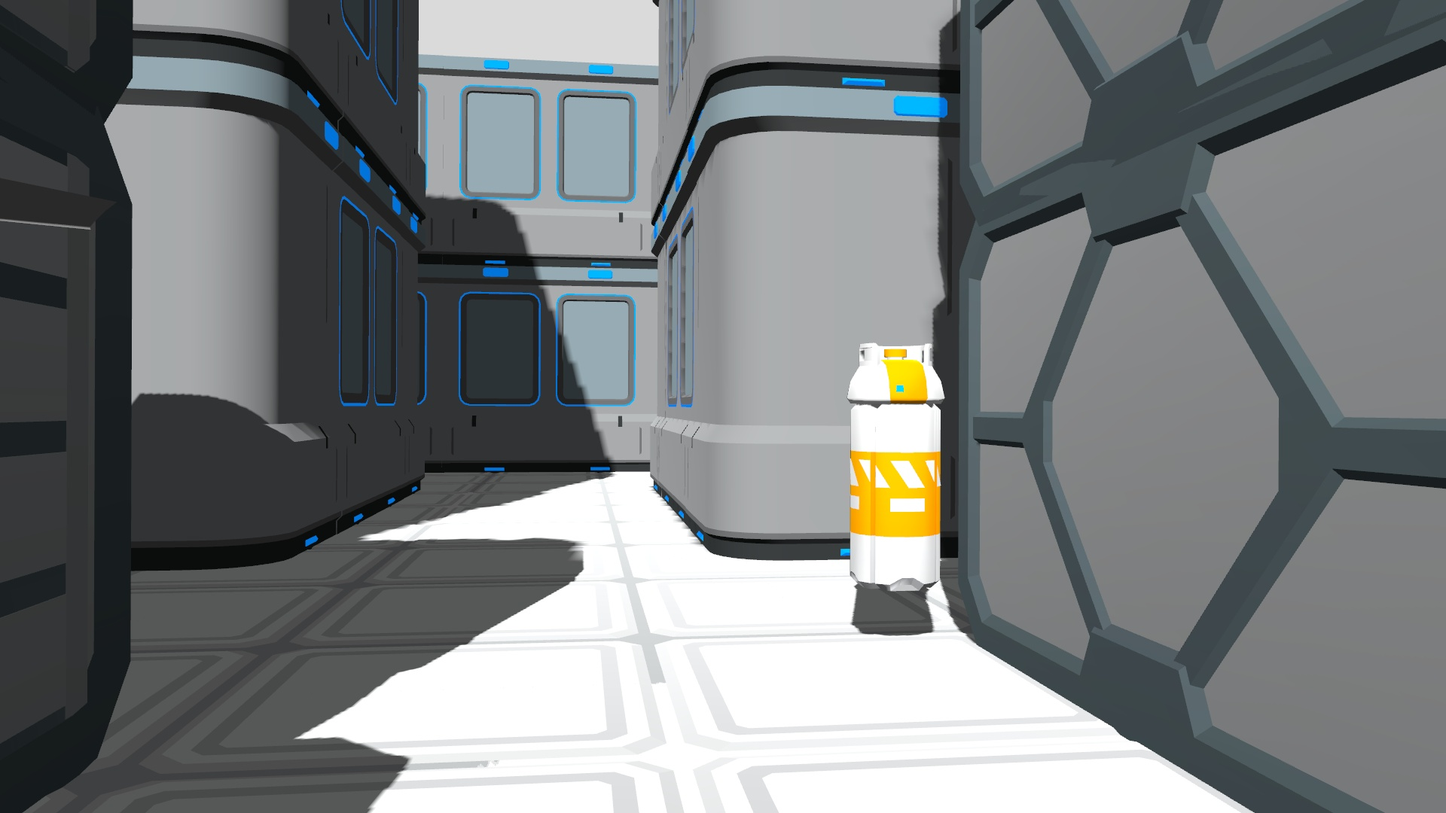yellow_barrel: (841, 333, 948, 600)
